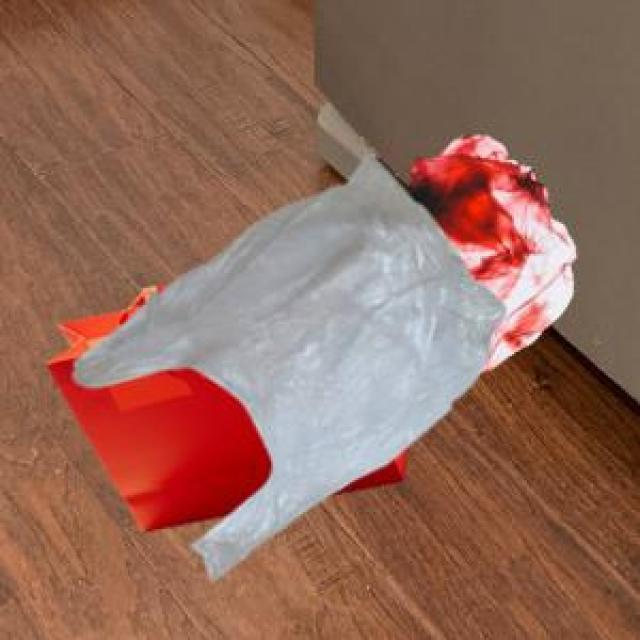paper: (43, 282, 403, 527)
